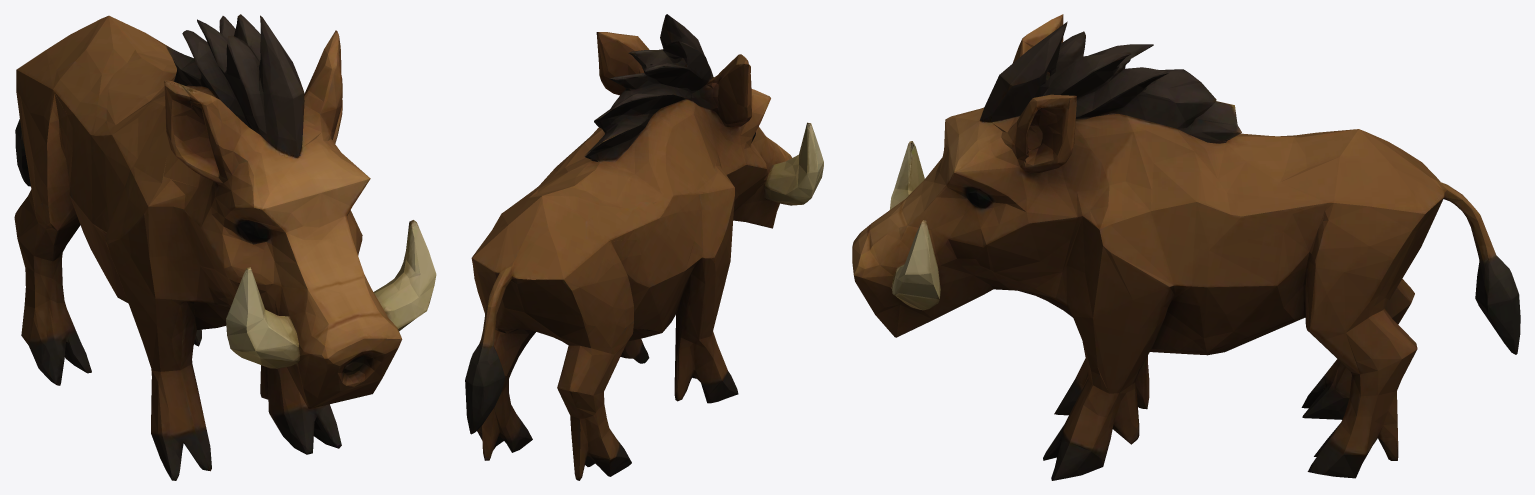
File: warthog.glb
3 renders of one model, left to right at view 1: azimuth 30°, elevation 25°; view 2: azimuth 150°, elevation 25°; view 3: azimuth 270°, elevation 25°, orthographic. The views are drawn at different scales.
Parts seen in each view (by area): view 1: world; view 2: world; view 3: world.
Boxes of the visible parts, bbox=[...] form: world: bbox=[14, 14, 436, 480]; world: bbox=[465, 14, 823, 480]; world: bbox=[852, 14, 1520, 480].
Bounding box in the file's own units: 0.3361 × 0.7024 × 0.998.
Materials: 1 (1 with a texture image).
